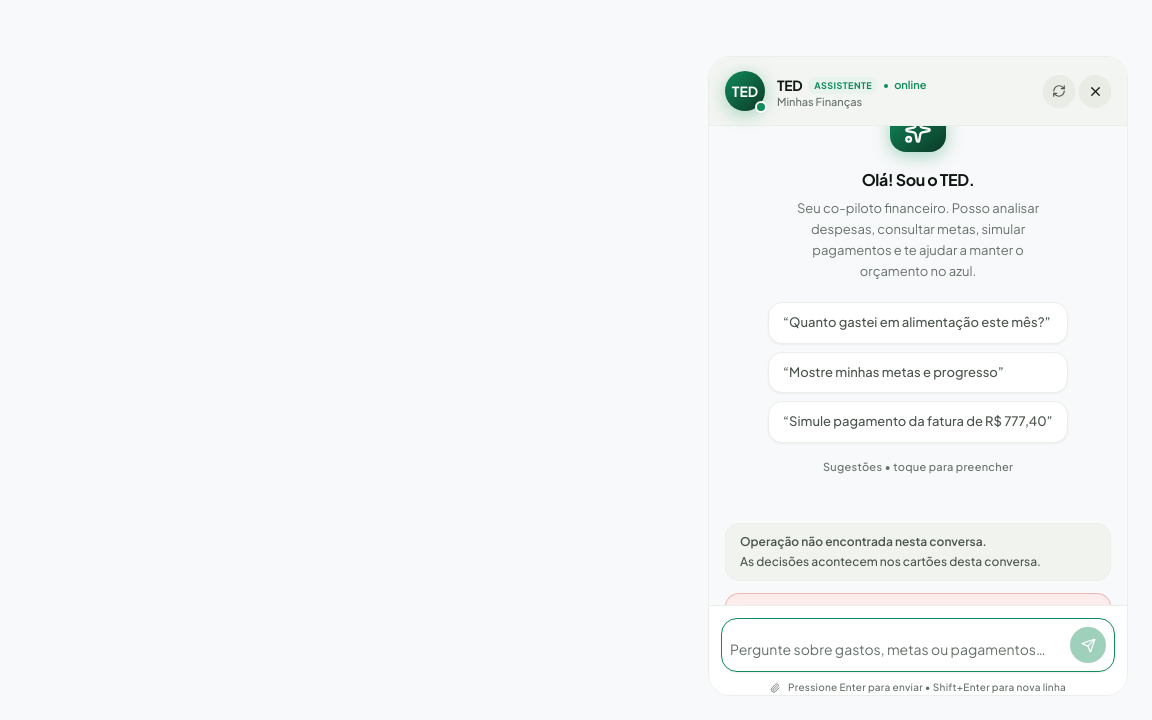
Test: TedChat deep-link focus (T5.3) › focuses/highlights the selected approval card without inventing state
(page scrolled)
Type "registre mercado 850" into the text box named "Mensagem para o assistente".
click(897, 649); type("registre mercado 850")  # box x1=730 y1=635 x2=1064 y2=663
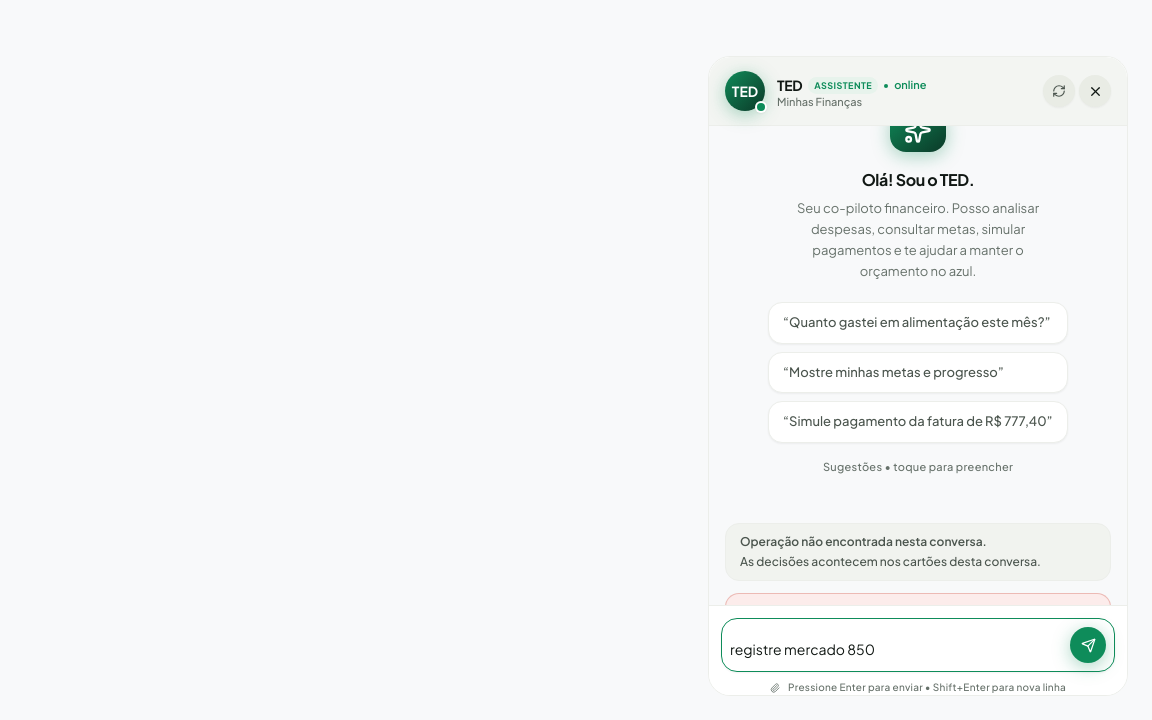
Click the button named "Enviar mensagem".
click(1088, 645)  # box x1=1070 y1=627 x2=1106 y2=663
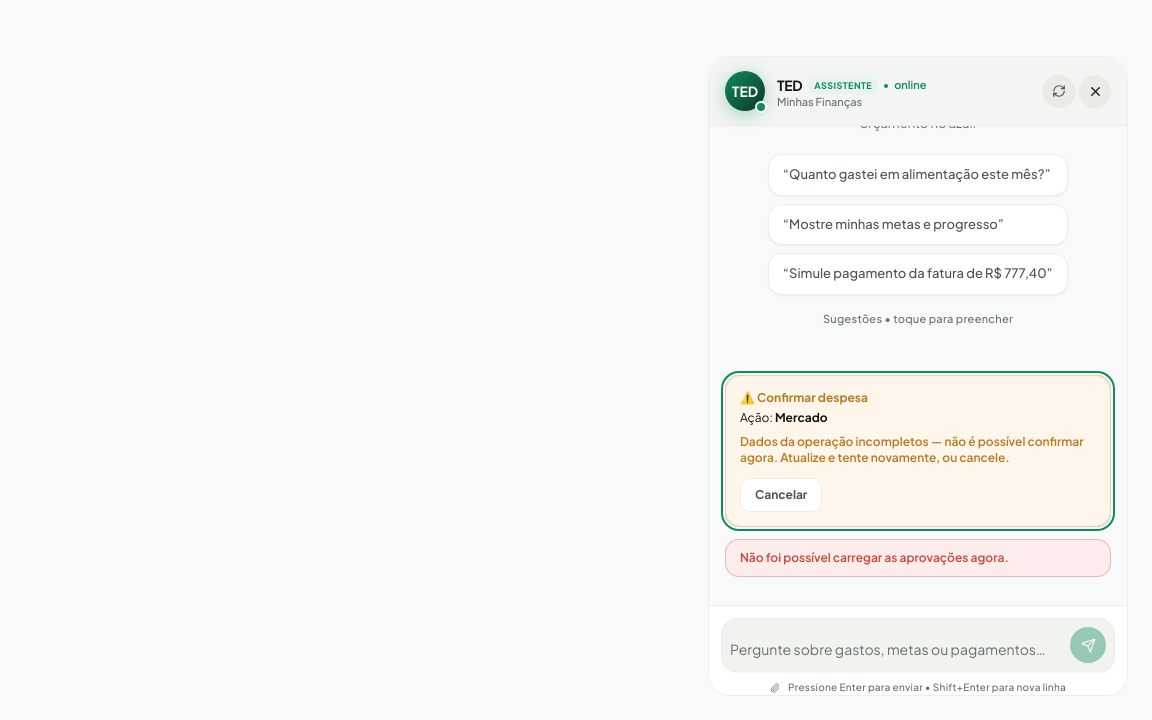
Result: the element with test id "ted-approval-focused" shows "Mercado" at x1=775 y1=410 x2=828 y2=425
